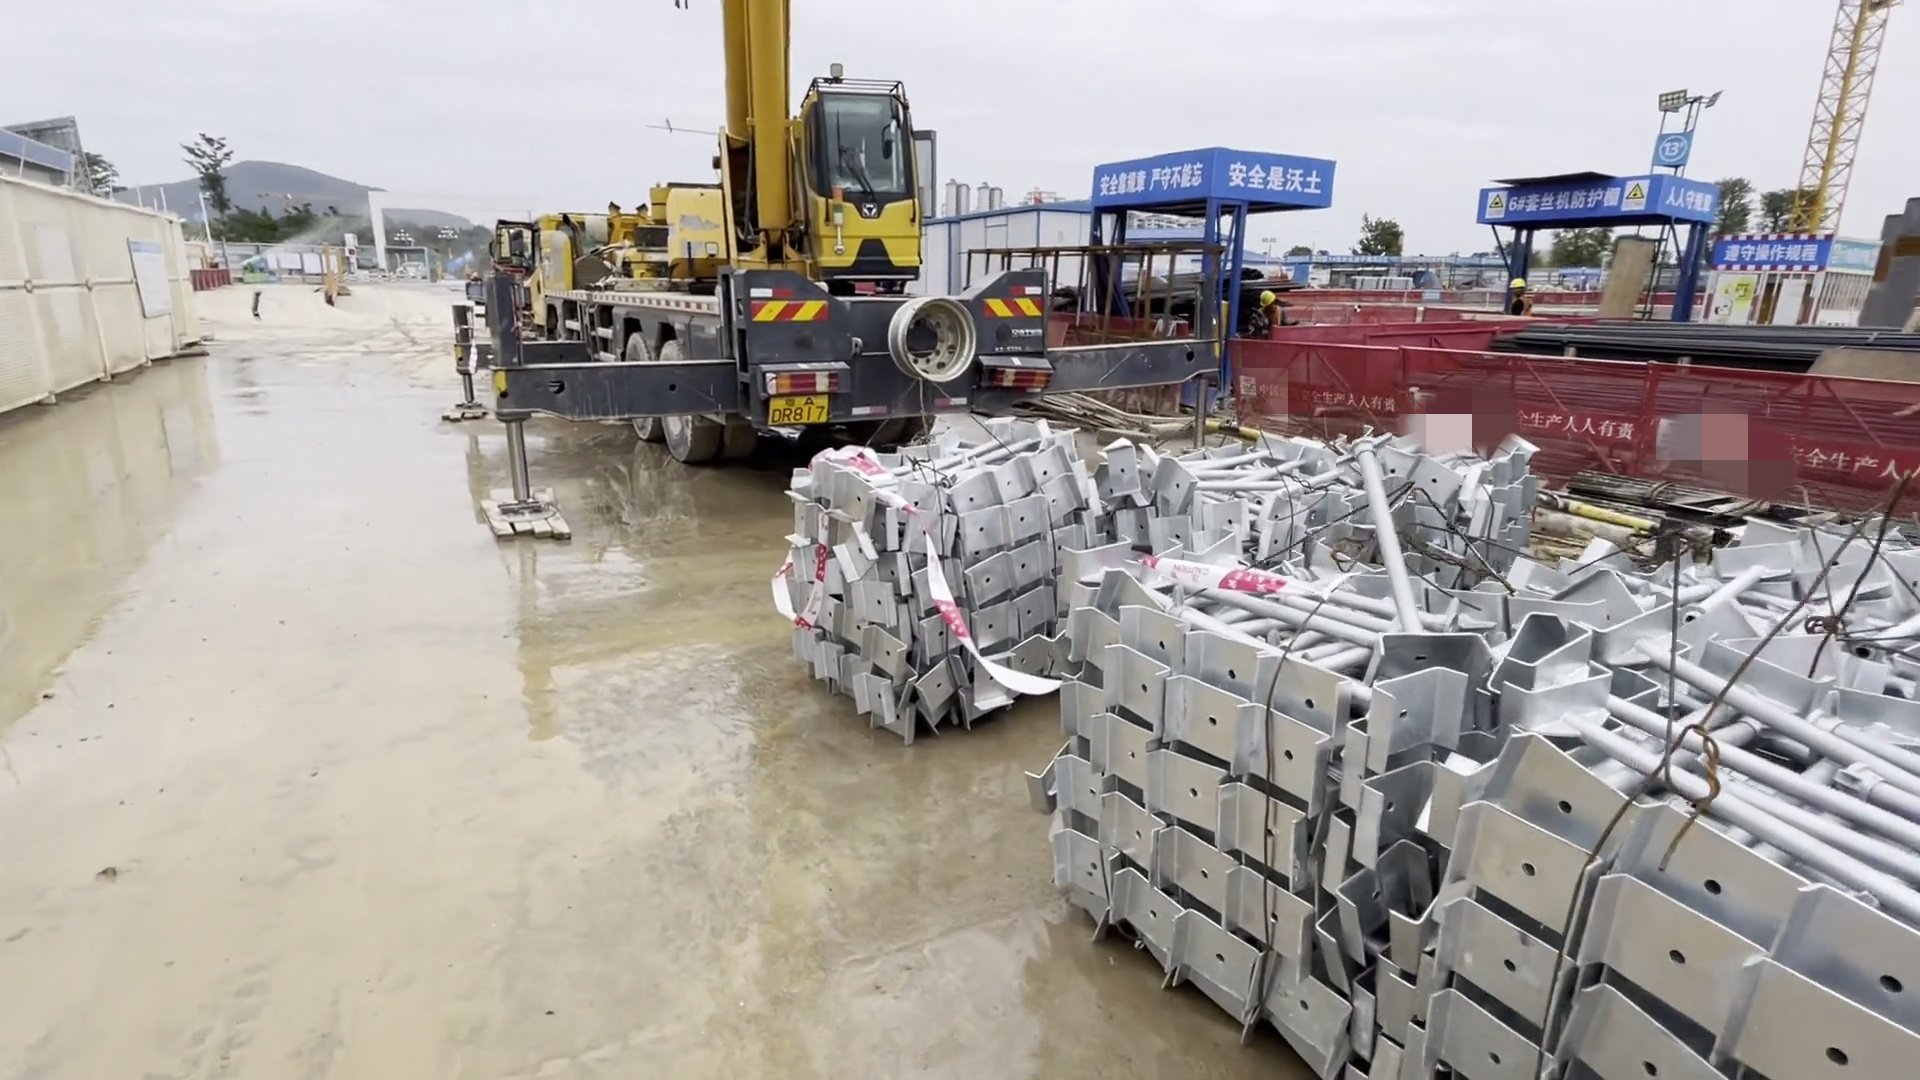slogan: (1460, 171, 1734, 222), (1104, 146, 1332, 203), (1708, 231, 1836, 272)
